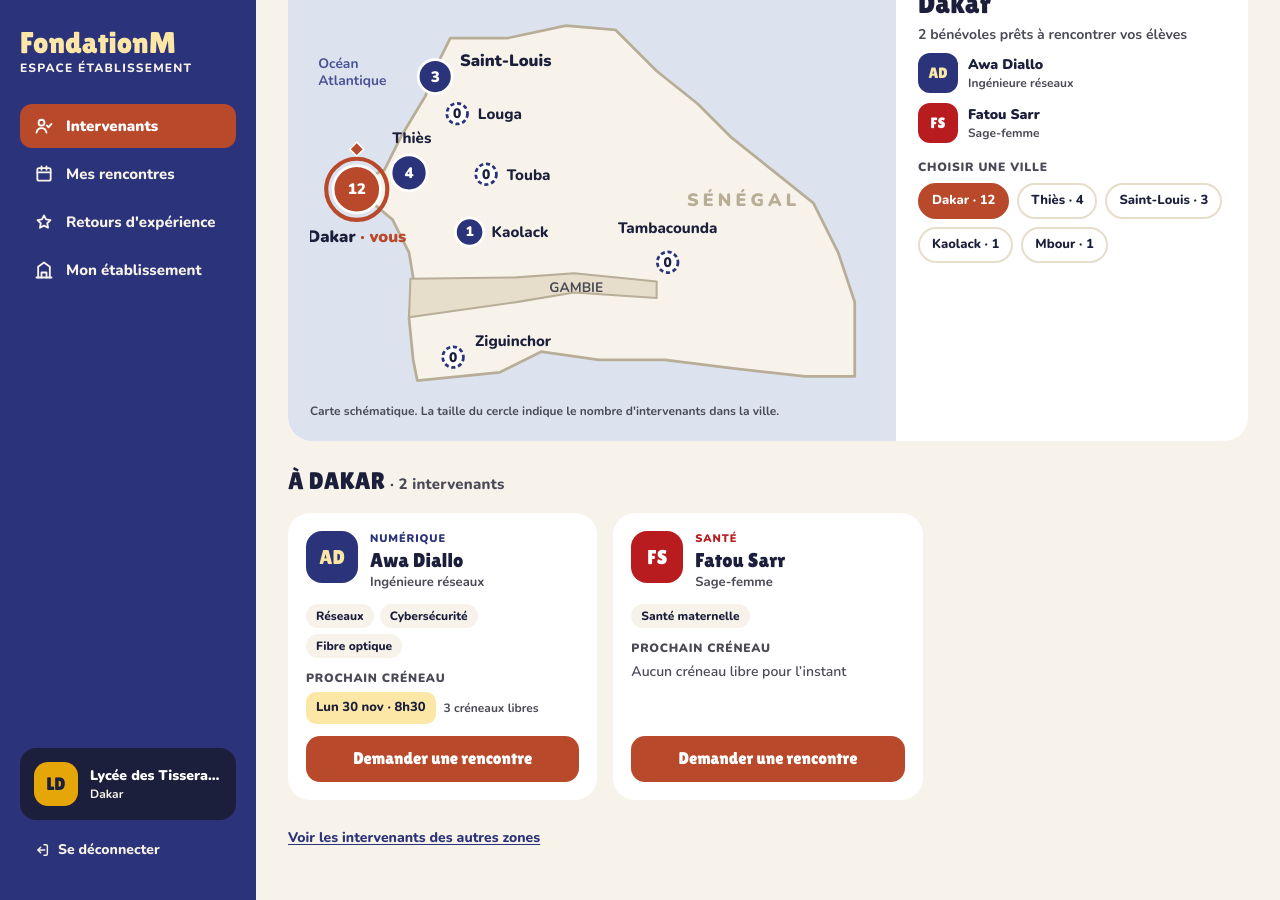
Scenario: Intervenants disponibles › affiche ma zone seule, avec un lien vers les autres zones (rencontres en classe seulement)
The image size is (1280, 900).
(page scrolled)
Expected: the heading "À Dakar · 2 intervenants" is shown, top-left (288, 467), bottom-right (505, 494)
Click the link "Voir les intervenants des autres zones" at (414, 837), box top-left (288, 828), bottom-right (540, 847)
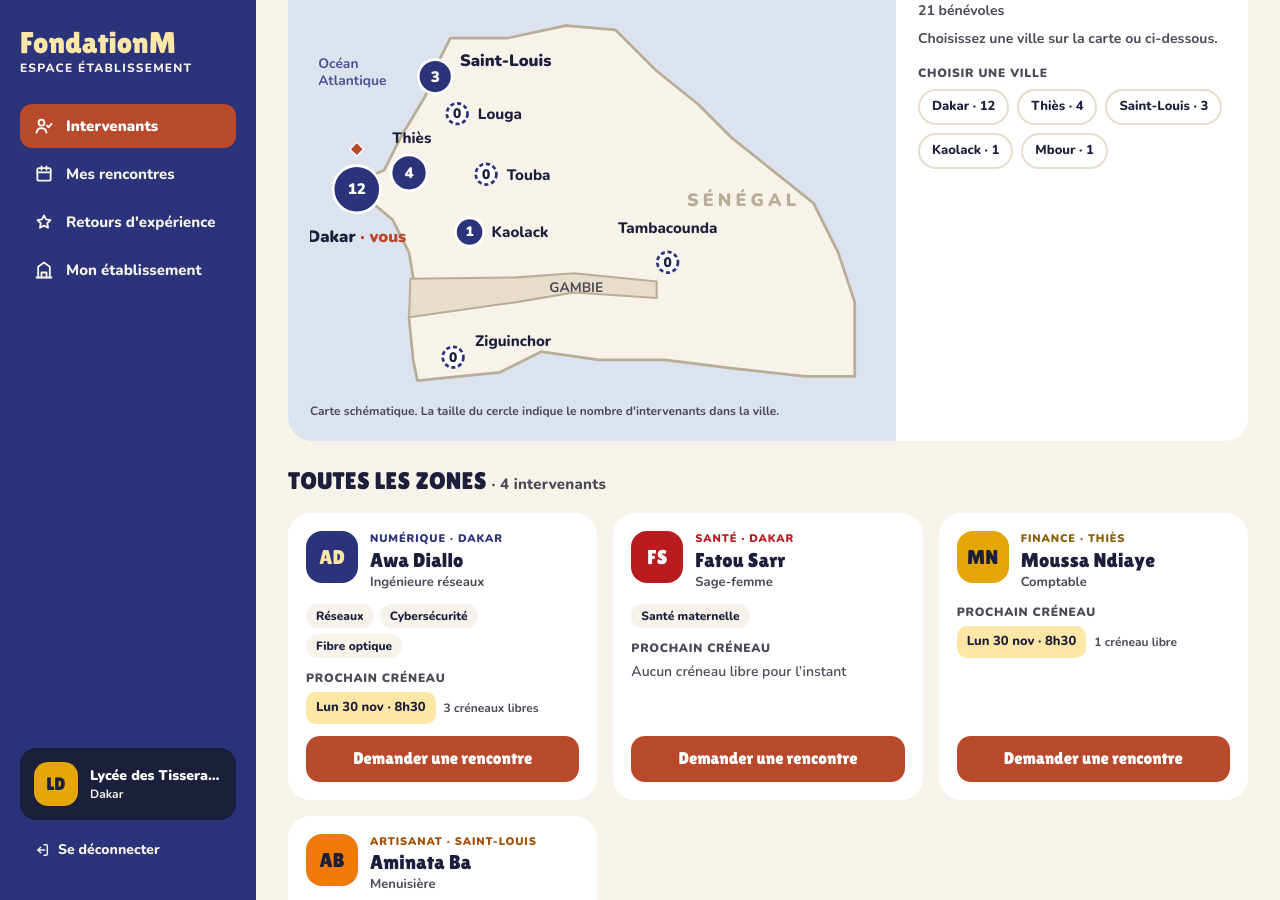
Expected: the heading "Toutes les zones · 4 intervenants" is shown, top-left (288, 467), bottom-right (606, 494)
